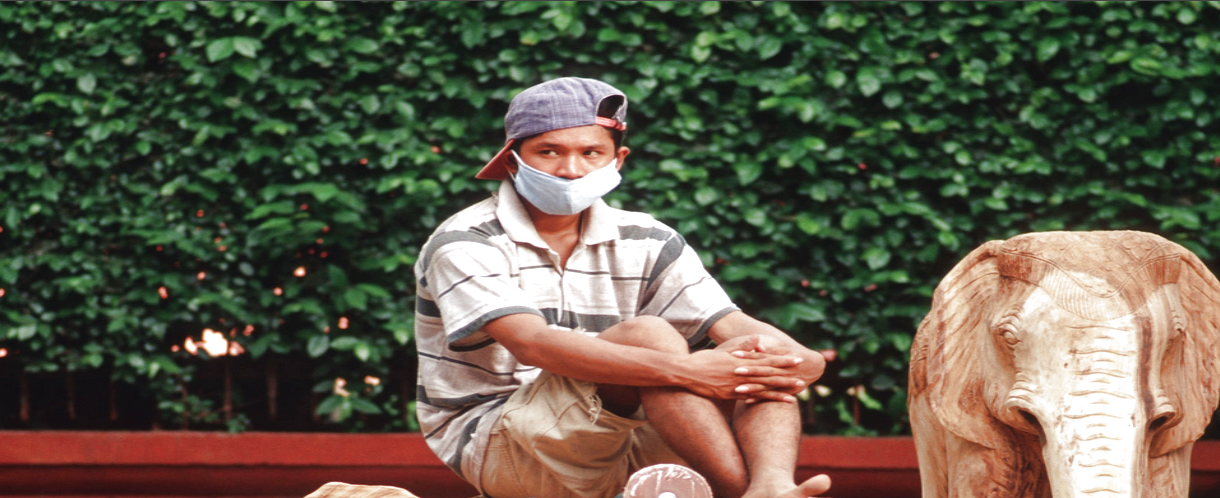mask_weared_incorrect: (483, 75, 635, 227)
